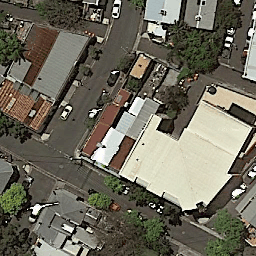car: (230, 184, 249, 200), (28, 202, 43, 222), (221, 37, 234, 59), (59, 105, 74, 121), (108, 69, 121, 85), (149, 200, 165, 213), (244, 164, 256, 180), (107, 202, 122, 214), (98, 91, 110, 106), (245, 27, 254, 46), (112, 1, 121, 19), (118, 183, 132, 194), (242, 49, 247, 65), (251, 2, 255, 18), (227, 28, 235, 35), (234, 1, 241, 7)
